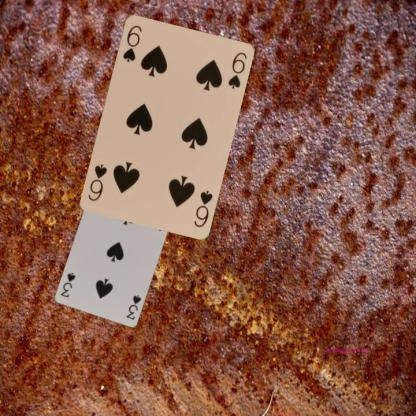3s: (124, 292, 142, 321)
6s: (120, 22, 143, 64), (191, 187, 214, 228)
